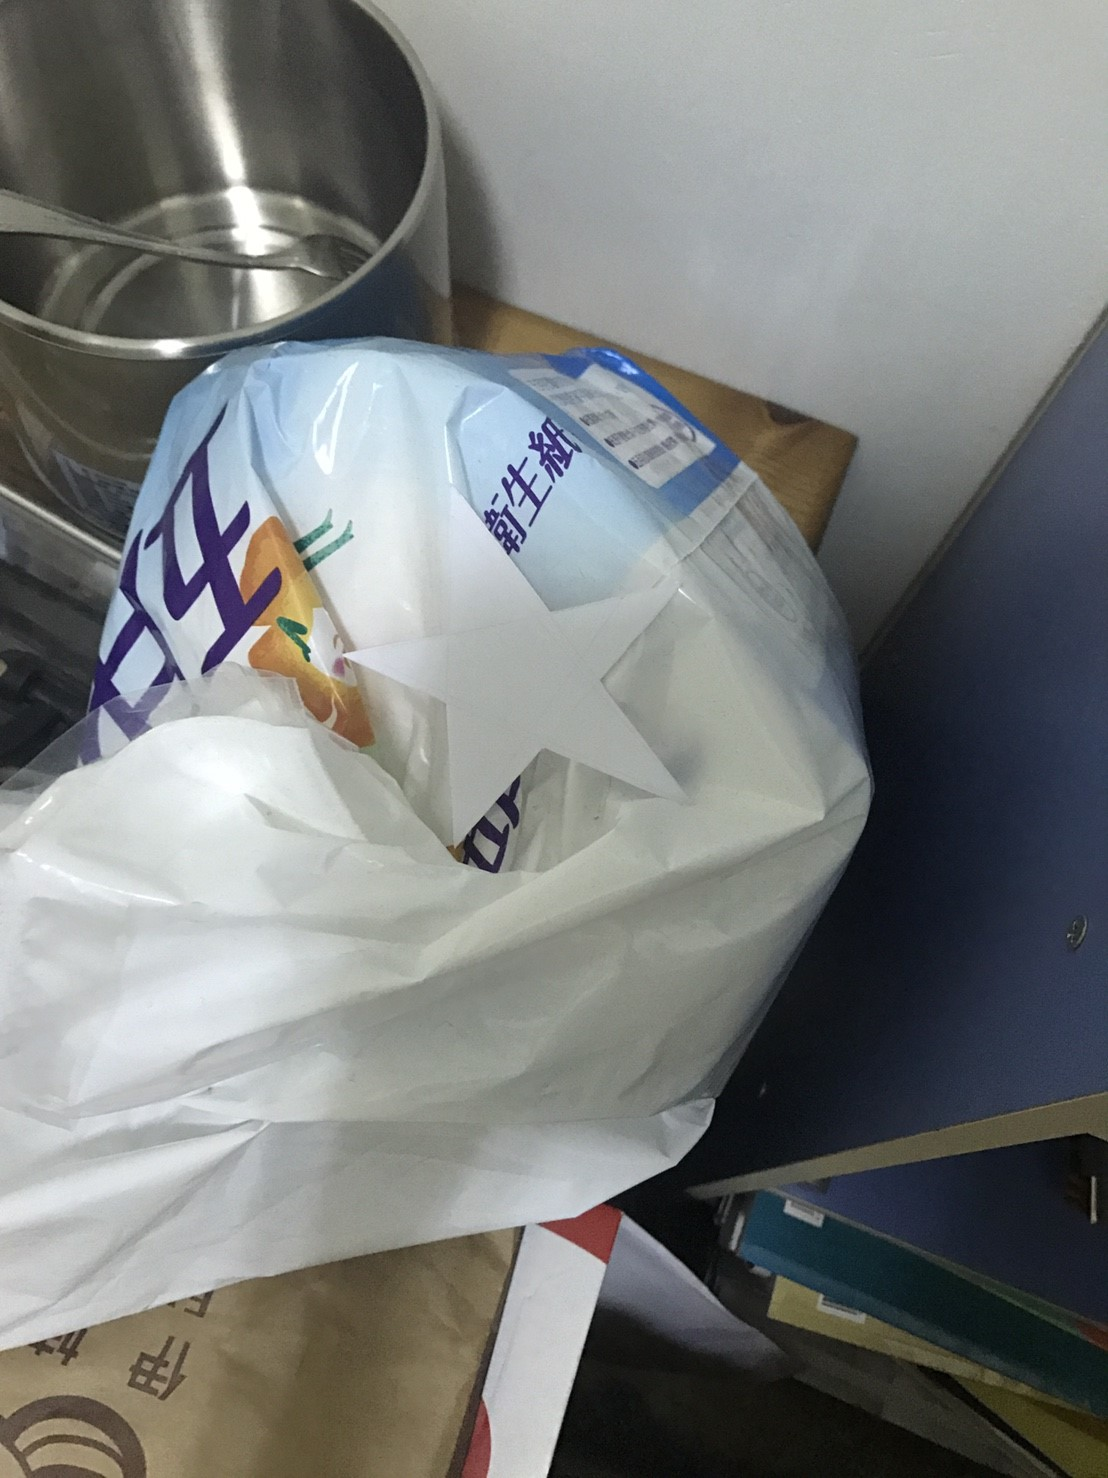star: (327, 474, 800, 862)
